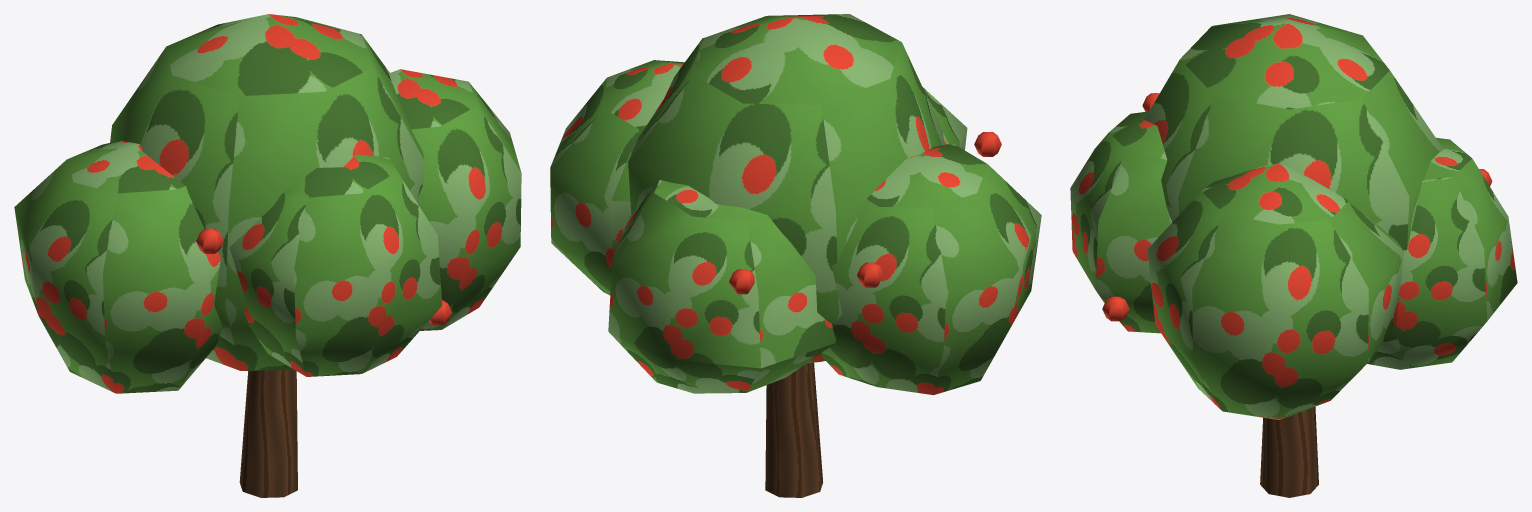
Rendered from env_apple_tree.glb.
The picture shows the model from 3 angles, left to right: view 1: azimuth 30°, elevation 25°; view 2: azimuth 150°, elevation 25°; view 3: azimuth 270°, elevation 25°; orthographic projection. The views are drawn at different scales.
Parts seen in each view (by area): view 1: env_apple_tree; view 2: env_apple_tree; view 3: env_apple_tree.
Part boxes in pixels (x1,y1,x2,y2): env_apple_tree: (14, 14, 521, 497); env_apple_tree: (550, 14, 1041, 497); env_apple_tree: (1070, 14, 1517, 497).
Size of the model in its own units: 5.04 by 4.84 by 4.25.
1 material, 1 textured.
